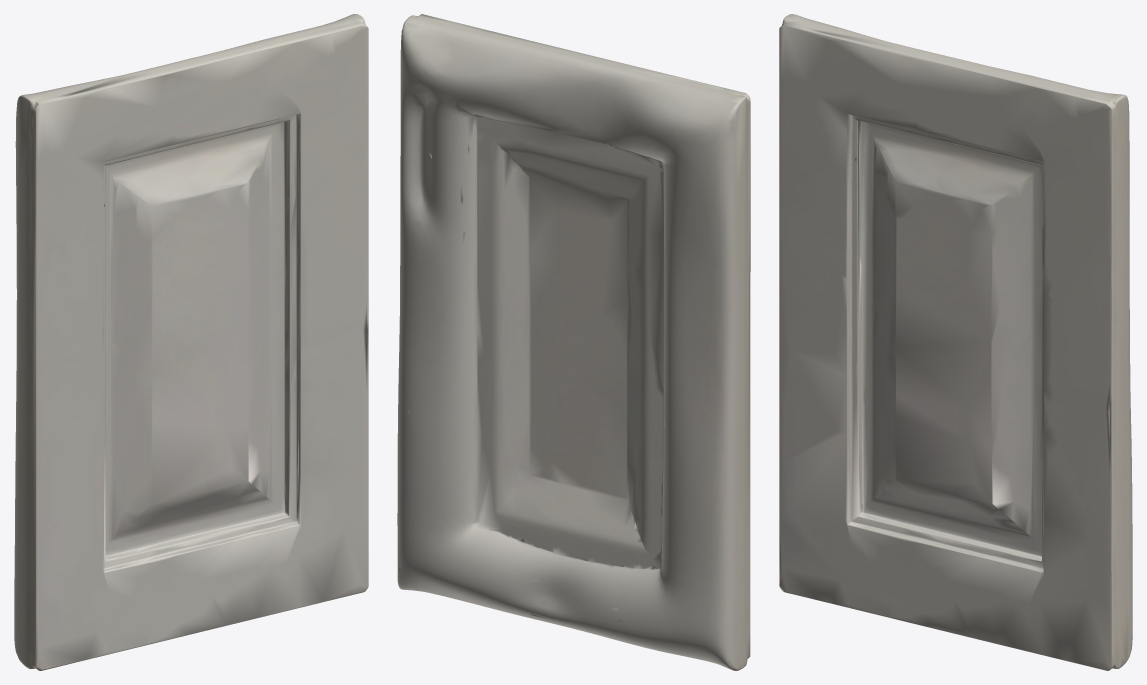
3 renders of one model, left to right at view 1: azimuth 30°, elevation 25°; view 2: azimuth 150°, elevation 25°; view 3: azimuth 330°, elevation 25°, orthographic.
Visible parts, largest first — view 1: material; view 2: material; view 3: material.
Boxes of the visible parts, bbox=[...] form: material: bbox=[14, 14, 368, 670]; material: bbox=[397, 14, 750, 670]; material: bbox=[779, 14, 1132, 670].
Size of the model in its own units: 0.6309 by 1.02 by 0.0944.
Materials: 1 (1 with a texture image).
